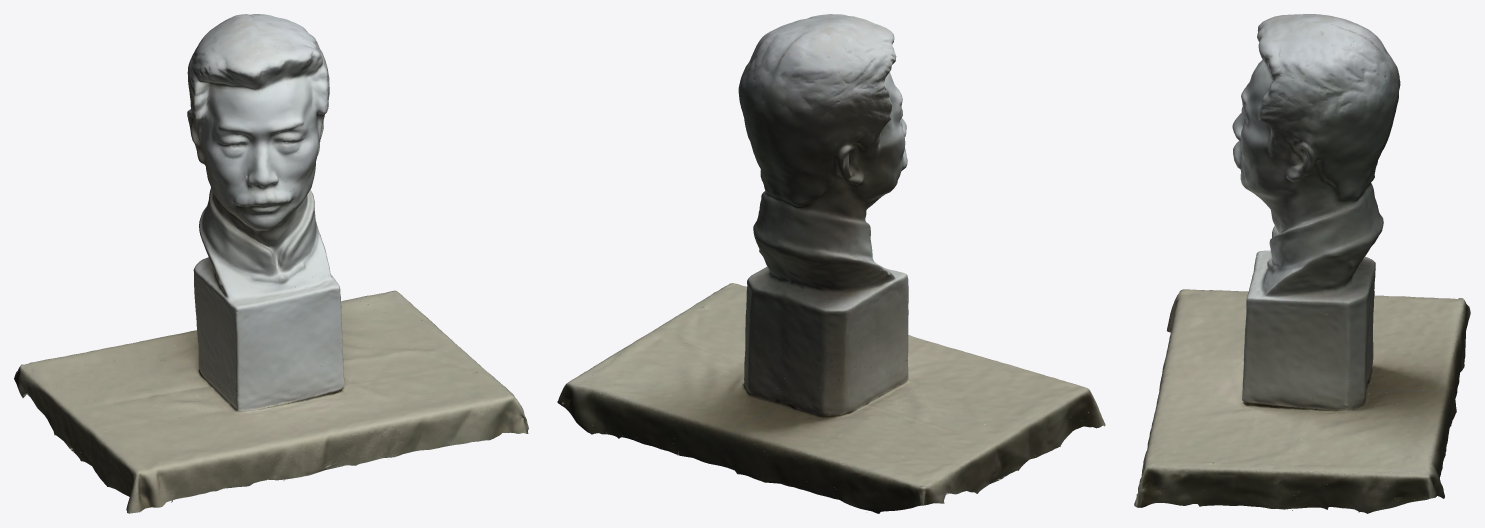
The model's file is 石膏头像_男中青年_胸像底座01_std_opt.glb.
The picture shows the model from 3 angles, left to right: view 1: azimuth 30°, elevation 25°; view 2: azimuth 150°, elevation 25°; view 3: azimuth 270°, elevation 25°; orthographic projection. The views are drawn at different scales.
Parts seen in each view (by area): view 1: defaultMat, defaultMat_1; view 2: defaultMat, defaultMat_1; view 3: defaultMat, defaultMat_1.
Part boxes in pixels (box(x1,y1,x2,y2)): defaultMat: box(14, 14, 528, 513); defaultMat_1: box(24, 19, 522, 511); defaultMat: box(557, 14, 1105, 513); defaultMat_1: box(557, 15, 1103, 505); defaultMat: box(1134, 14, 1470, 513); defaultMat_1: box(1140, 16, 1468, 511).
Size of the model in its own units: 0.3228 by 0.3 by 0.2311.
Materials: 1 (1 with a texture image).
